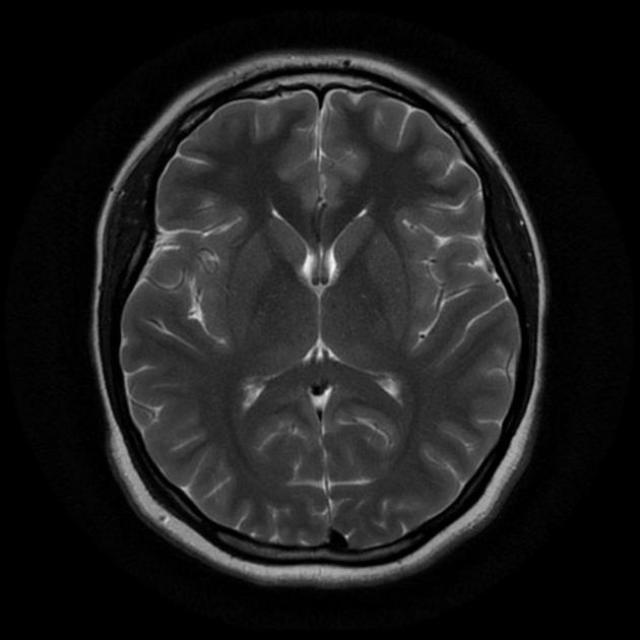notumor: (90, 52, 545, 593)
